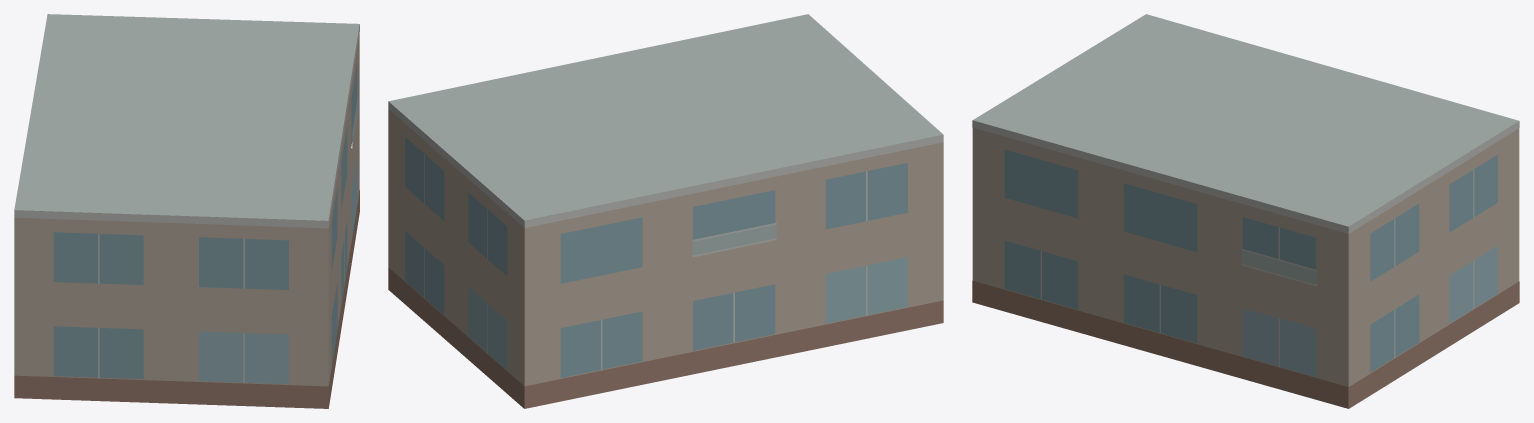
The model's file is survey-upis-32698830.glb.
3 renders of one model, left to right at view 1: azimuth 30°, elevation 25°; view 2: azimuth 150°, elevation 25°; view 3: azimuth 270°, elevation 25°, orthographic. The views are drawn at different scales.
Parts seen in each view (by area): view 1: survey-upis-32698830.tmp; view 2: survey-upis-32698830.tmp; view 3: survey-upis-32698830.tmp.
Part boxes in pixels (<box>): survey-upis-32698830.tmp: <box>14,14,359,408</box>; survey-upis-32698830.tmp: <box>388,14,943,408</box>; survey-upis-32698830.tmp: <box>972,14,1519,408</box>.
Size of the model in its own units: 15.29 by 6.1 by 16.61.
